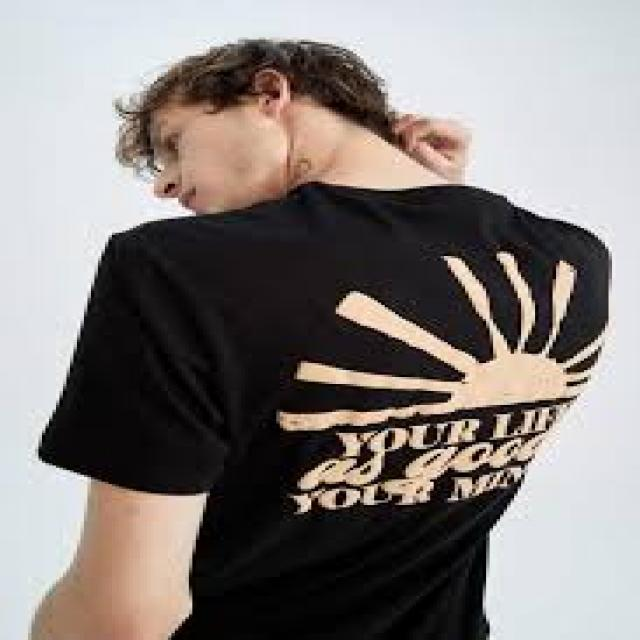Shirt: (61, 167, 634, 640)
